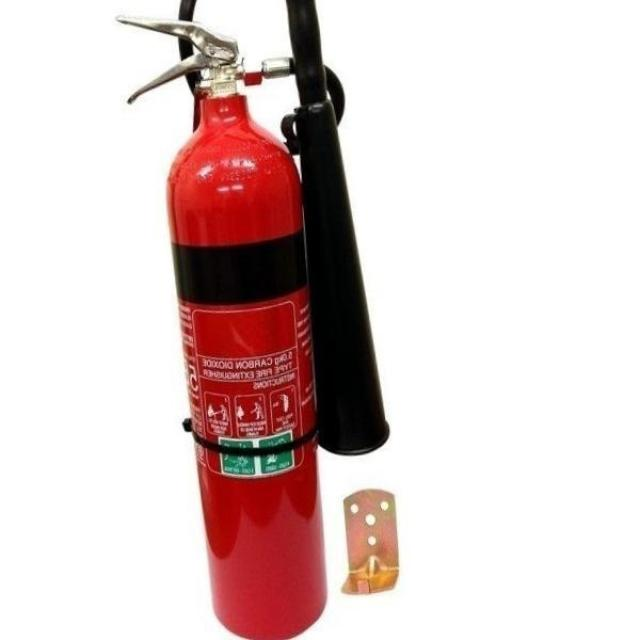fire_extinguisher: (105, 0, 396, 638)
